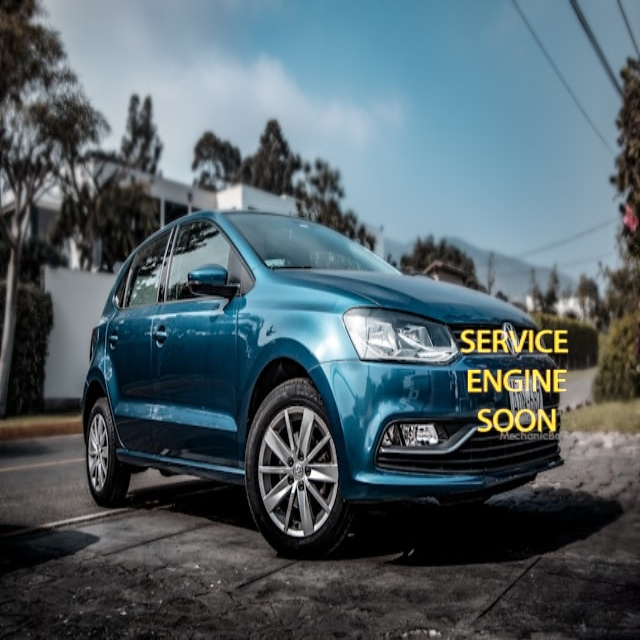symbol: (450, 319, 577, 446)
